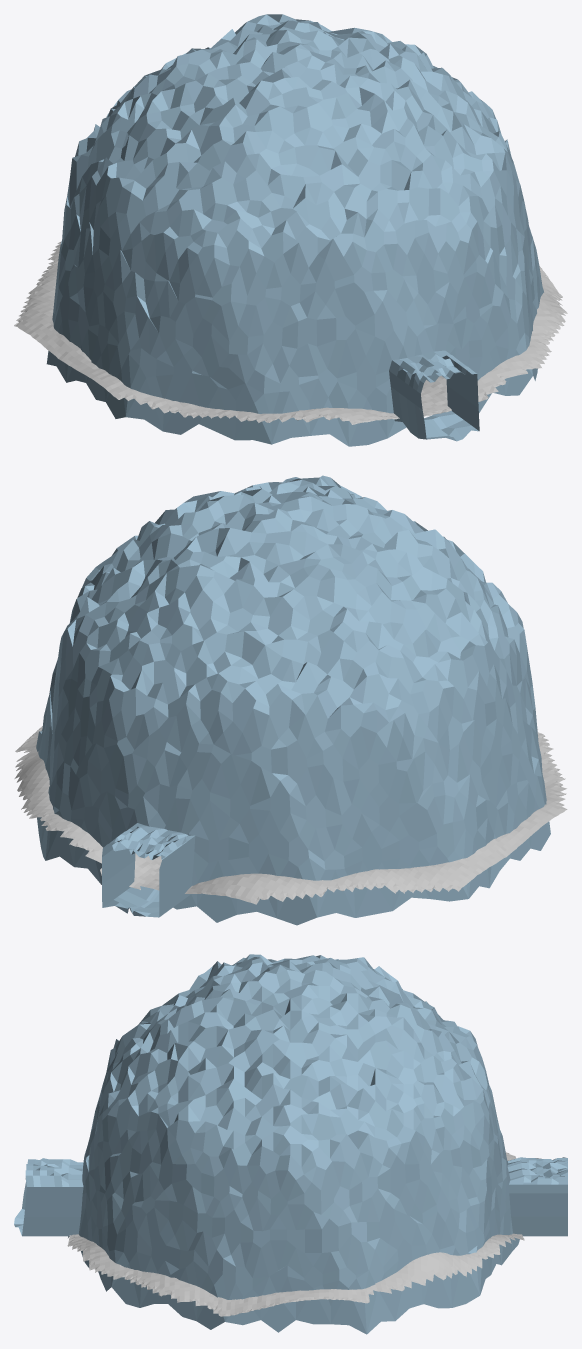
The model's file is Igloo.fbx.
3 views of the same model, one above another, from view 1: azimuth 30°, elevation 25°; view 2: azimuth 150°, elevation 25°; view 3: azimuth 270°, elevation 25° (orthographic). The views are drawn at different scales.
Visible parts, largest first — view 1: Icosphere, Plane; view 2: Icosphere, Plane; view 3: Icosphere, Plane.
Boxes of the visible parts, box(x1,y1,x2,y2) form: Icosphere: box(46, 14, 543, 446); Plane: box(14, 241, 567, 424); Icosphere: box(36, 475, 550, 925); Plane: box(14, 726, 567, 904); Icosphere: box(14, 954, 567, 1334); Plane: box(67, 1152, 524, 1316).
Size of the model in its own units: 3263 by 2132 by 3916.
